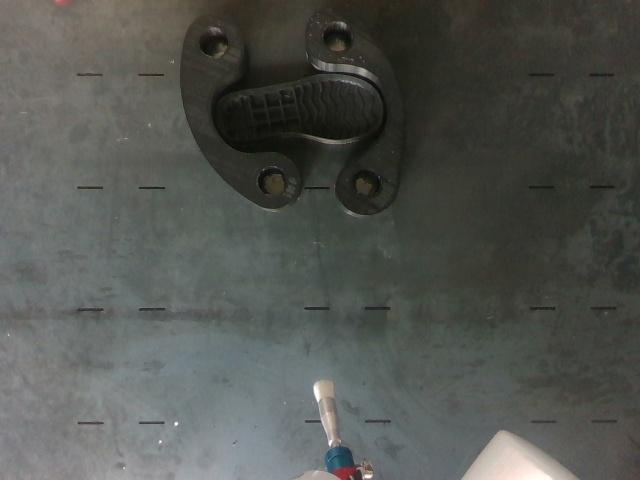shoes: (217, 76, 381, 145)
